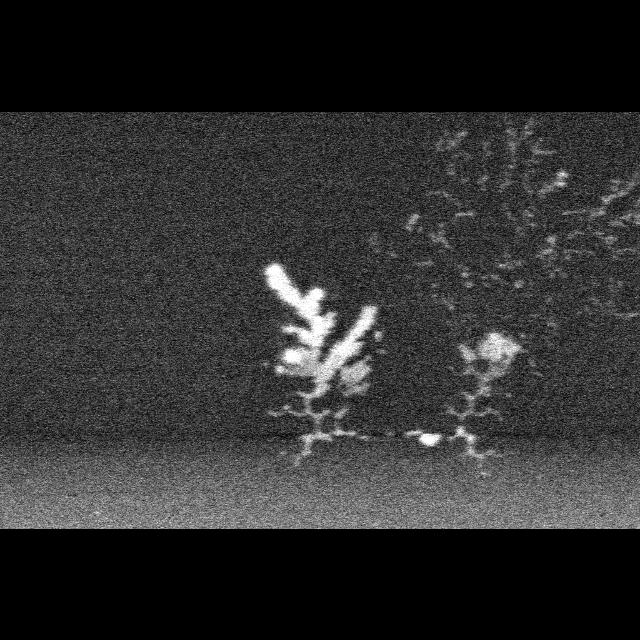dendrites: (266, 261, 377, 464), (405, 331, 535, 456), (500, 116, 568, 230), (563, 177, 640, 261), (537, 235, 593, 277), (584, 278, 638, 318), (428, 191, 474, 215), (496, 241, 524, 270), (370, 230, 402, 255), (438, 129, 468, 151), (446, 151, 471, 174), (429, 223, 452, 247), (542, 313, 560, 338), (434, 294, 453, 308), (481, 274, 508, 283), (530, 358, 544, 375), (407, 214, 419, 230), (458, 263, 472, 276), (478, 174, 488, 189), (373, 329, 383, 341), (417, 259, 435, 265), (483, 143, 490, 156), (503, 311, 517, 317), (514, 279, 523, 286), (463, 313, 478, 317), (378, 348, 388, 354), (465, 281, 475, 286), (585, 307, 592, 314), (430, 282, 439, 287), (545, 294, 552, 299), (418, 225, 424, 230), (535, 313, 543, 316), (365, 316, 367, 319)
